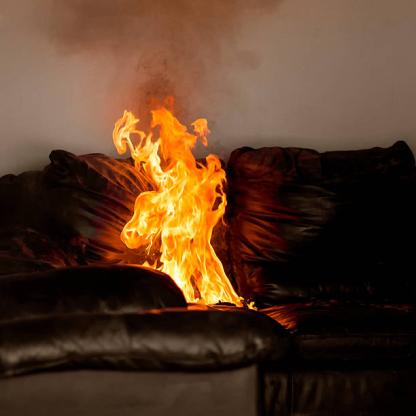fire: (102, 104, 253, 314)
smoke: (15, 1, 298, 129)
